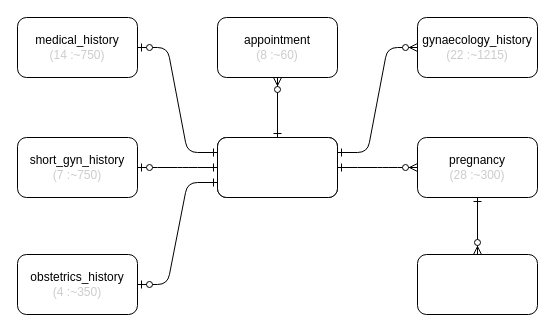
This 555x332 diagram has some shape labels left out. The shapes that lost their labels are listed below. From the top down, each one's centre as x and y in pixels, then its label:
At point (277, 167): "patient_personal _details (22 :~850)".
At point (477, 284): "pregnancy_visits (219 :~1800)".
